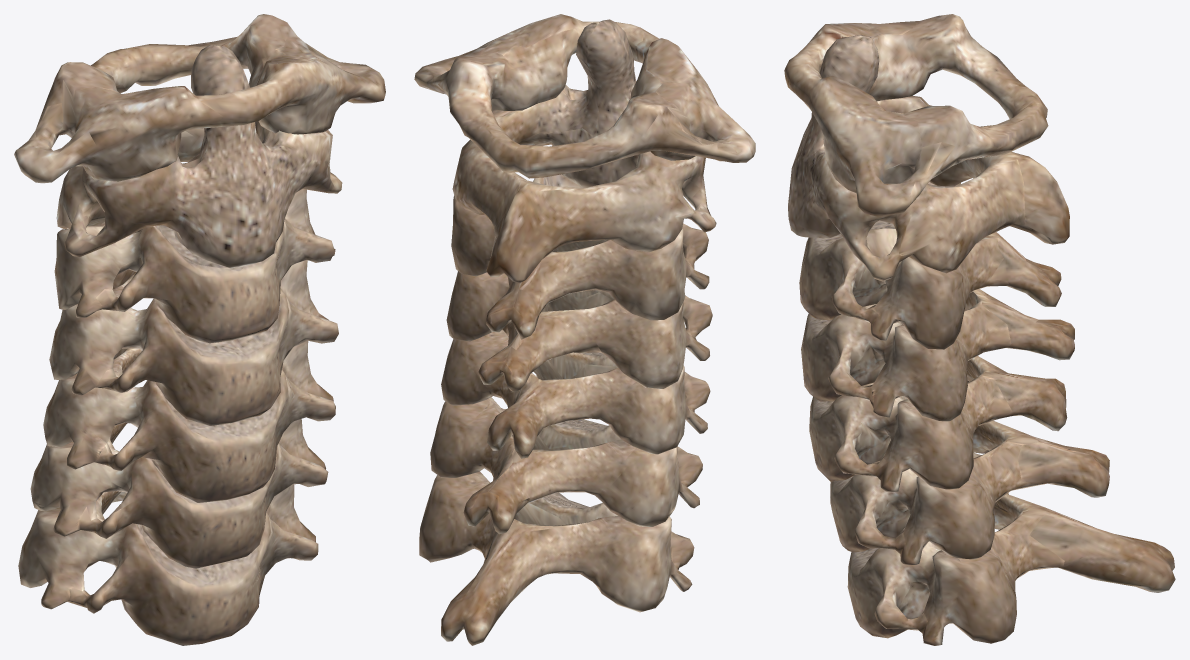
File: Legs.206.obj
3 views of the same model, side by side, from view 1: azimuth 30°, elevation 25°; view 2: azimuth 150°, elevation 25°; view 3: azimuth 270°, elevation 25° (orthographic). The views are drawn at different scales.
Parts seen in each view (by area): view 1: Legs.206_Arms.206; view 2: Legs.206_Arms.206; view 3: Legs.206_Arms.206.
Part boxes in pixels (x1,y1,x2,y2): Legs.206_Arms.206: (14,14,385,645); Legs.206_Arms.206: (414,14,755,645); Legs.206_Arms.206: (784,14,1175,645).
Size of the model in its own units: 0.4048 by 0.64 by 0.3867.
